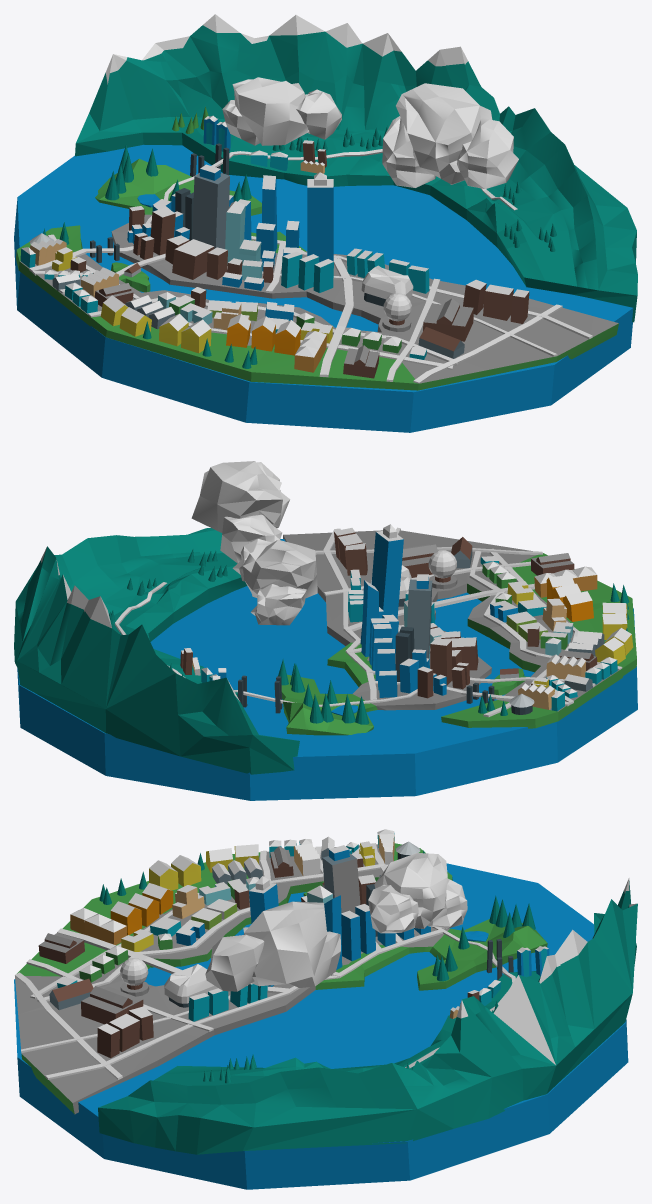
The picture shows the model from 3 angles, top to bottom: view 1: azimuth 30°, elevation 25°; view 2: azimuth 150°, elevation 25°; view 3: azimuth 270°, elevation 25°; orthographic projection.
Parts seen in each view (by area): view 1: node_MeshObject-160953344-PolyPaper21, node_MeshObject-733032448-PolyPaper20; view 2: node_MeshObject-160953344-PolyPaper21, node_MeshObject-733032448-PolyPaper20; view 3: node_MeshObject-160953344-PolyPaper21, node_MeshObject-733032448-PolyPaper20.
Boxes of the visible parts, box(x1,y1,x2,y2) form: node_MeshObject-160953344-PolyPaper21: box(14, 14, 633, 432); node_MeshObject-733032448-PolyPaper20: box(29, 25, 637, 383); node_MeshObject-160953344-PolyPaper21: box(17, 461, 637, 800); node_MeshObject-733032448-PolyPaper20: box(14, 528, 629, 774); node_MeshObject-160953344-PolyPaper21: box(14, 829, 636, 1189); node_MeshObject-733032448-PolyPaper20: box(15, 834, 637, 1154).
Bounding box in the file's own units: 2.93 × 1.07 × 2.97.
